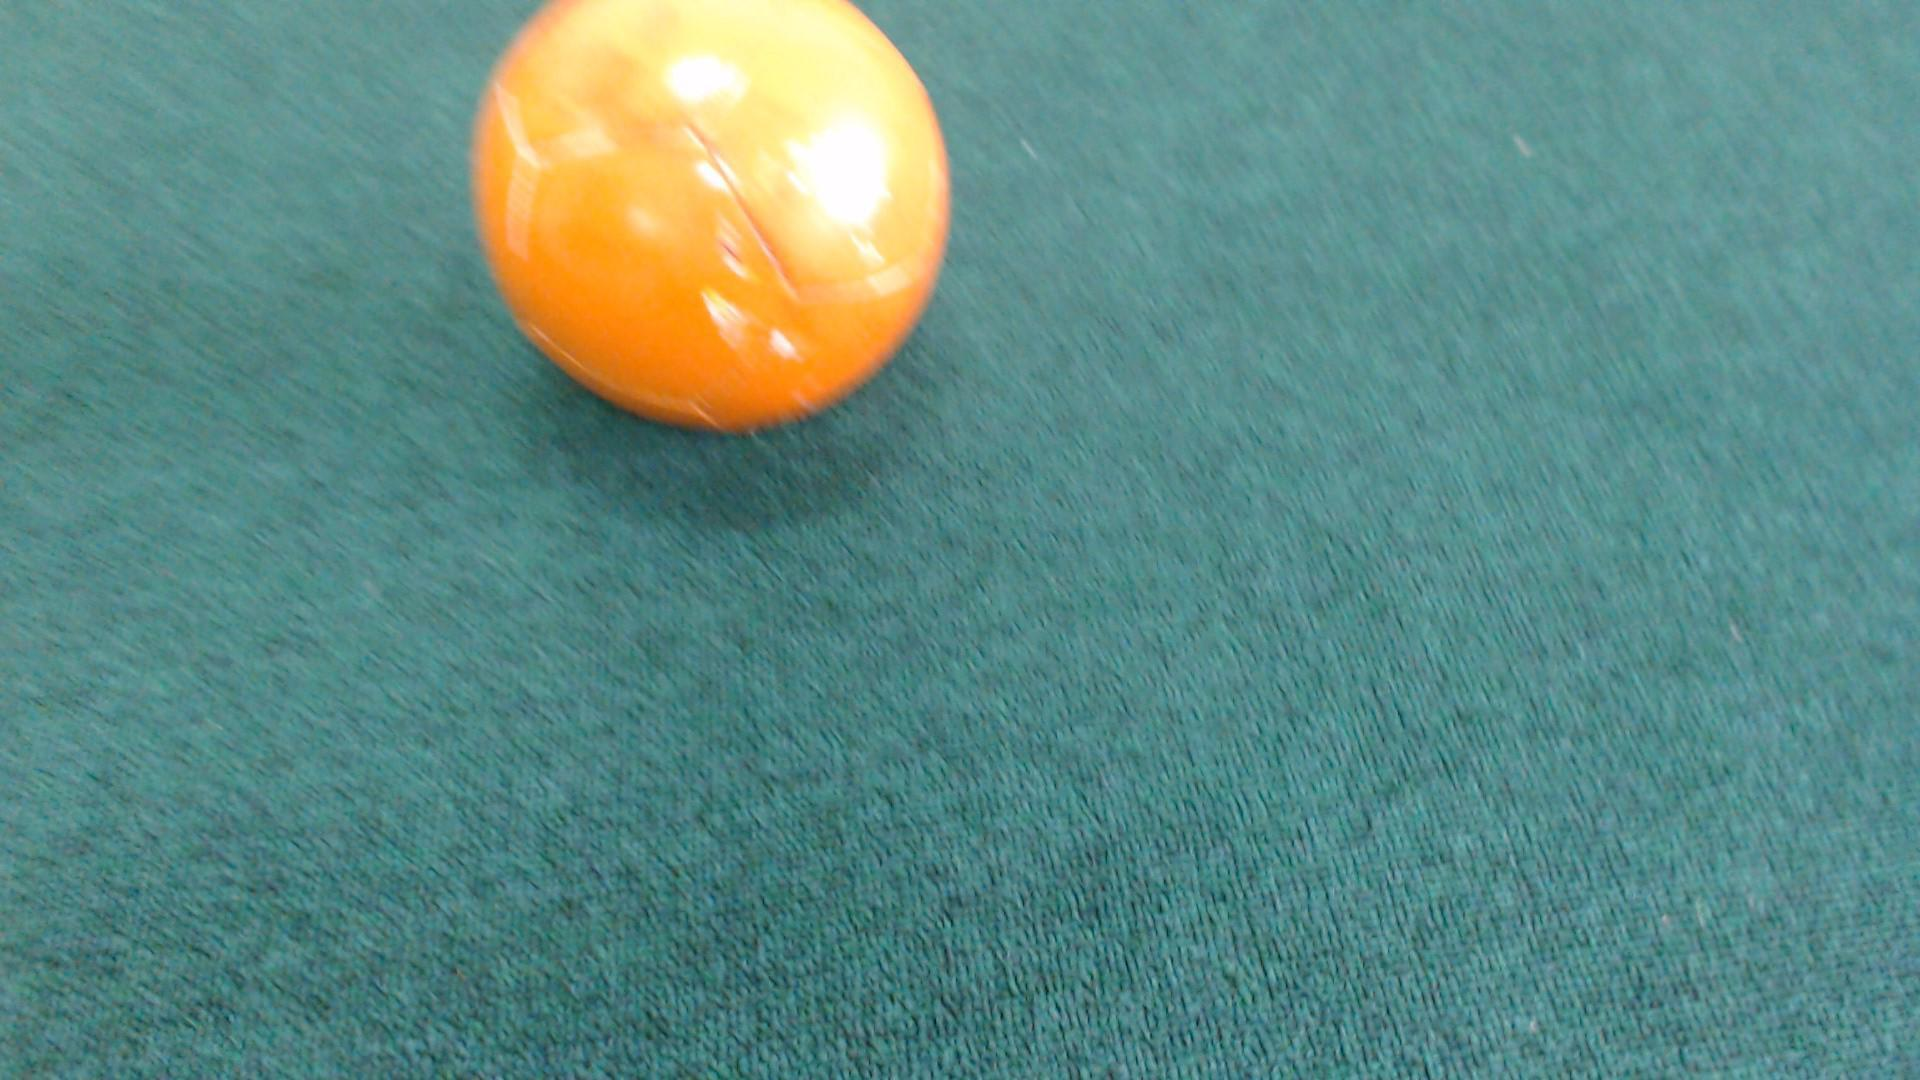bola: (451, 0, 967, 444)
